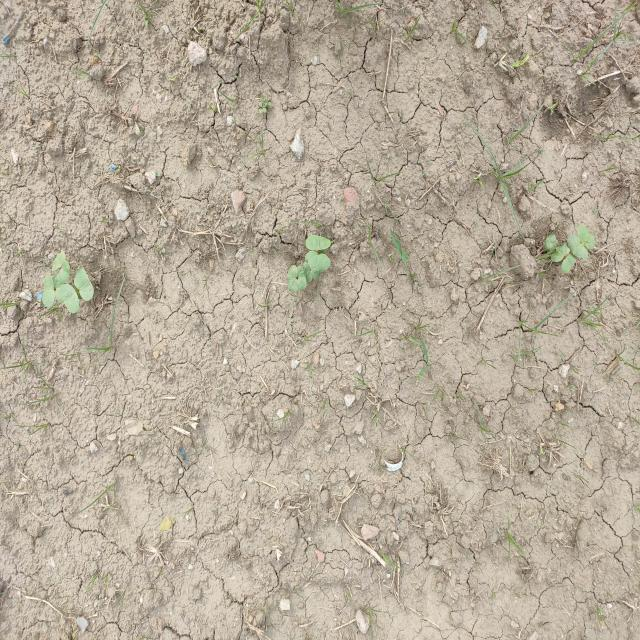seedling: (74, 268, 94, 301), (59, 284, 79, 313), (566, 234, 588, 260), (305, 251, 330, 272), (577, 225, 595, 250), (42, 274, 55, 308), (551, 242, 570, 262), (306, 235, 331, 250), (287, 265, 299, 293), (303, 261, 319, 282), (57, 260, 70, 284), (53, 274, 63, 303), (52, 251, 66, 271), (561, 253, 575, 273), (297, 266, 307, 290), (544, 235, 558, 251)
